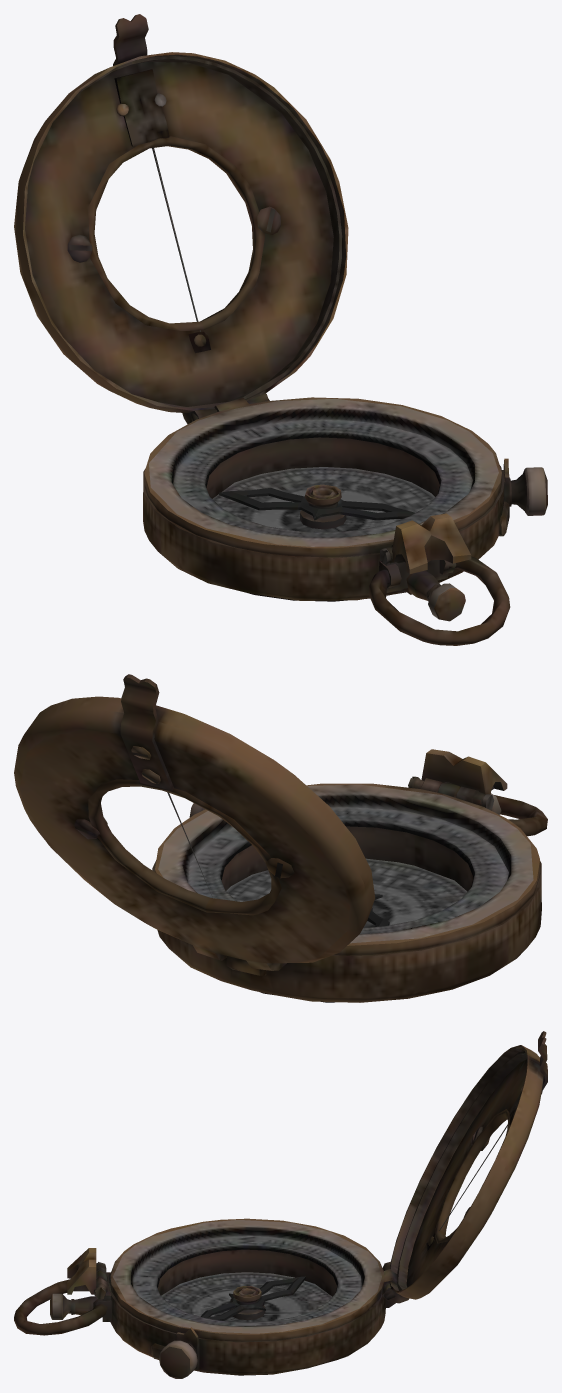
File: compass.glb
3 views of the same model, one above another, from view 1: azimuth 30°, elevation 25°; view 2: azimuth 150°, elevation 25°; view 3: azimuth 270°, elevation 25° (orthographic). The views are drawn at different scales.
Visible parts, largest first — view 1: seadogs_compass_lid, seadogs_compass, seadogs_compass_needle; view 2: seadogs_compass_lid, seadogs_compass; view 3: seadogs_compass, seadogs_compass_lid, seadogs_compass_needle.
Part boxes in pixels (bbox=[...]): seadogs_compass_lid: bbox=[14, 14, 348, 424]; seadogs_compass: bbox=[143, 397, 547, 645]; seadogs_compass_needle: bbox=[219, 488, 414, 520]; seadogs_compass_lid: bbox=[14, 674, 375, 970]; seadogs_compass: bbox=[152, 749, 547, 1002]; seadogs_compass: bbox=[14, 1218, 397, 1378]; seadogs_compass_lid: bbox=[381, 1031, 547, 1303]; seadogs_compass_needle: bbox=[200, 1276, 305, 1320].
Bounding box in the file's own units: 0.081 × 0.0866 × 0.1441.
1 material, 1 textured.
